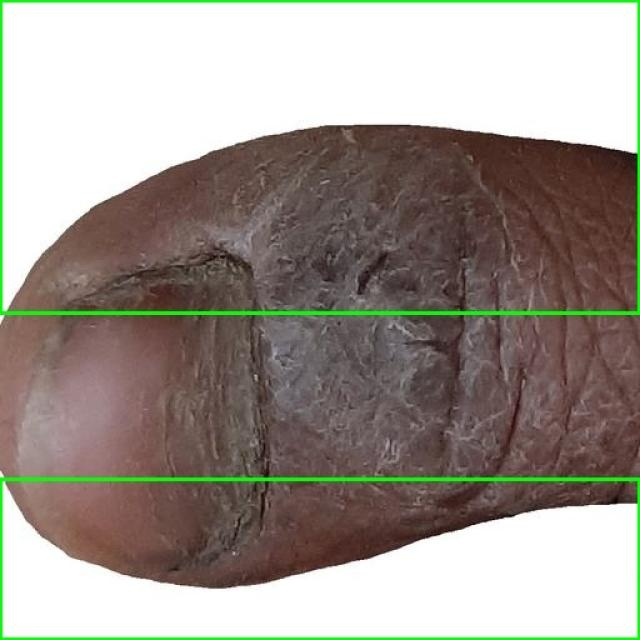Contact Dermatitis: (0, 0, 639, 314), (0, 479, 639, 639)
